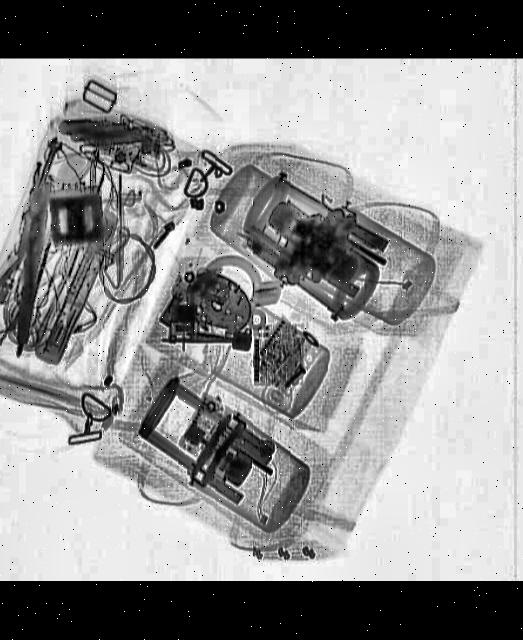Pliers: (0, 202, 59, 337)
